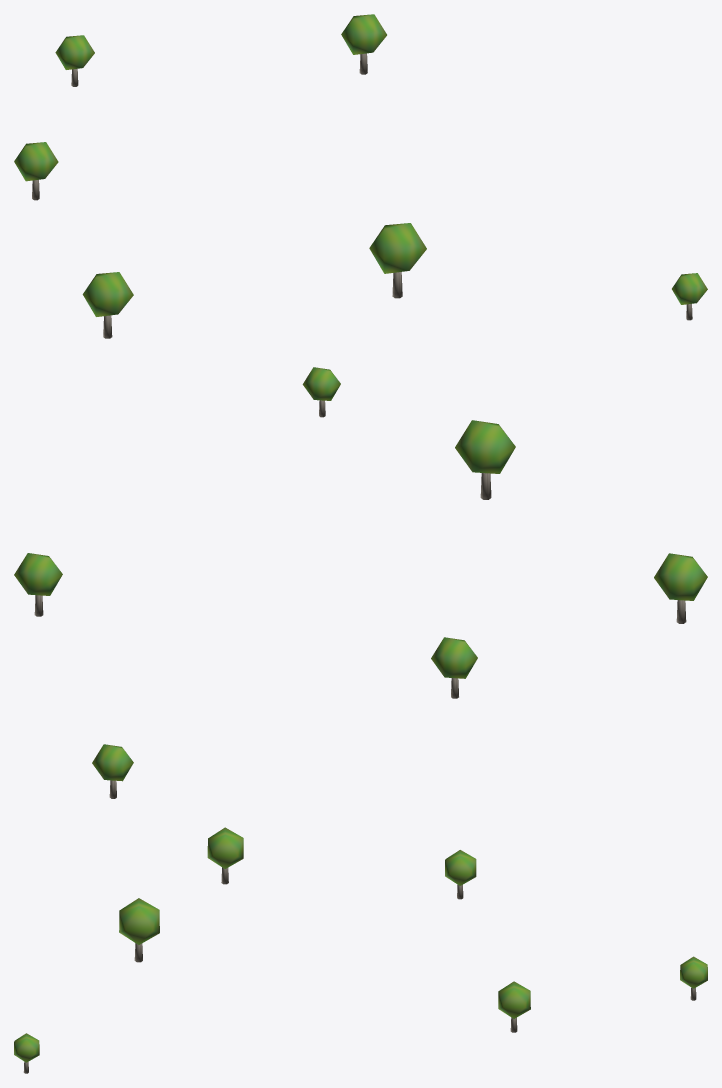
The model's file is ISL-L_LOD1_Trees.fbx.
The picture shows the model from 3 angles, top to bottom: view 1: azimuth 30°, elevation 25°; view 2: azimuth 150°, elevation 25°; view 3: azimuth 270°, elevation 25°; orthographic projection. The views are drawn at different scales.
Parts seen in each view (by area): view 1: ISL-L_LOD1_Trees; view 2: ISL-L_LOD1_Trees; view 3: ISL-L_LOD1_Trees.
Part boxes in pixels (box(x1,y1,x2,y2)): ISL-L_LOD1_Trees: box(14, 14, 707, 338); ISL-L_LOD1_Trees: box(14, 367, 707, 798); ISL-L_LOD1_Trees: box(14, 827, 707, 1073).
Bounding box in the file's own units: 46.75 × 69.39 × 9.99.
